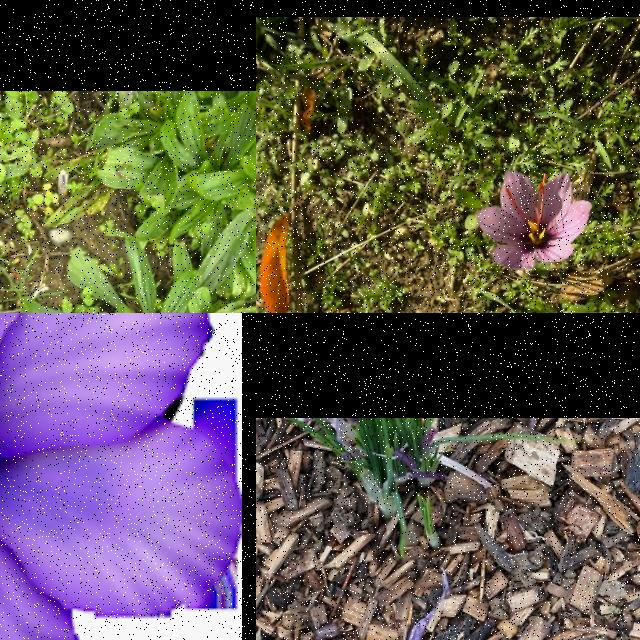flower: (478, 169, 592, 269)
